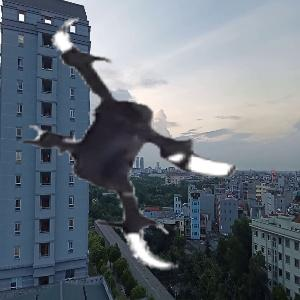drone: (2, 7, 276, 281)
